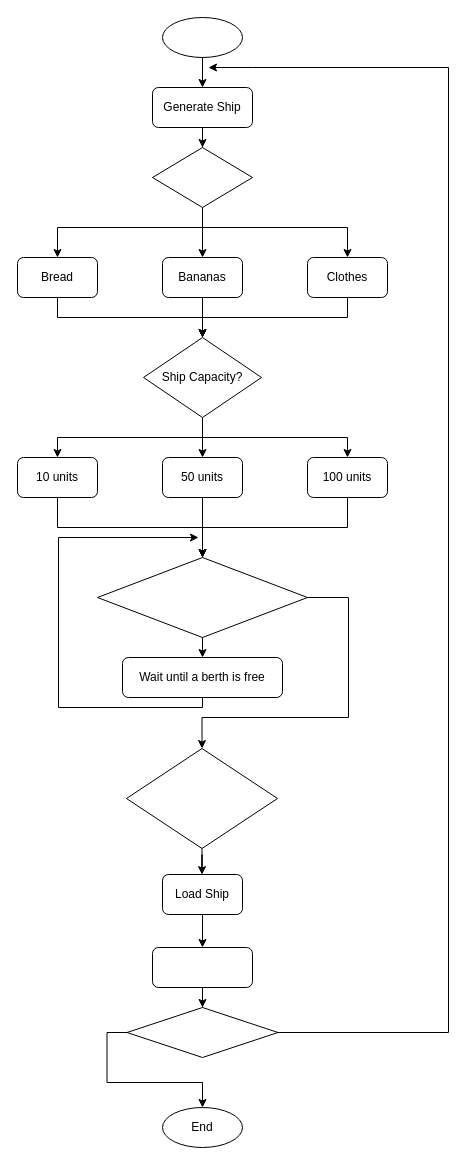
This 474x1165 diagram has some shape labels left out. The shapes that lost their labels are listed below. From the top down, each one's centre as x and y in pixels, then its label:
(x=202, y=37): Start
(x=202, y=177): Ship Type?
(x=202, y=597): Tunnel Capacity Reached?
(x=202, y=798): Berth Available for Loading?
(x=202, y=967): Ship Leaves Tunnel
(x=202, y=1032): Continue work?
